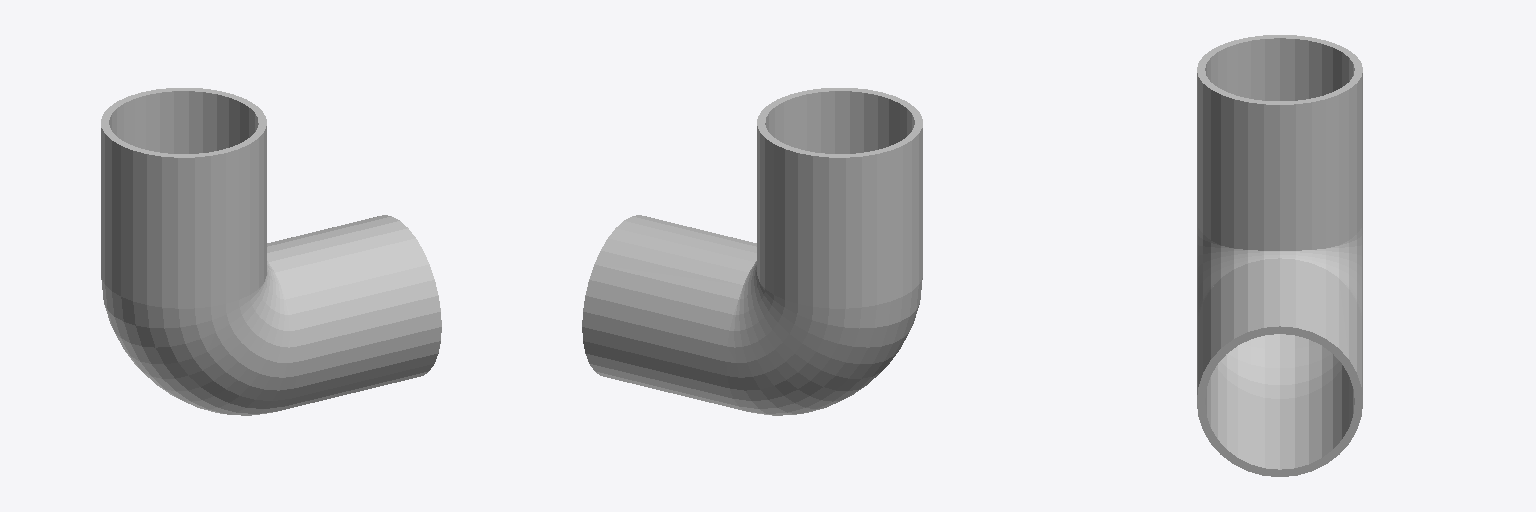
File: LPipe2.obj
The picture shows the model from 3 angles: view 1: azimuth 30°, elevation 25°; view 2: azimuth 150°, elevation 25°; view 3: azimuth 270°, elevation 25°; orthographic projection.
Parts seen in each view (by area): view 1: Cylinder.001; view 2: Cylinder.001; view 3: Cylinder.001.
Part boxes in pixels (bbox=[...]): Cylinder.001: bbox=[101, 88, 441, 415]; Cylinder.001: bbox=[582, 88, 922, 415]; Cylinder.001: bbox=[1197, 35, 1362, 476].
Bounding box in the file's own units: 4 × 4 × 2.